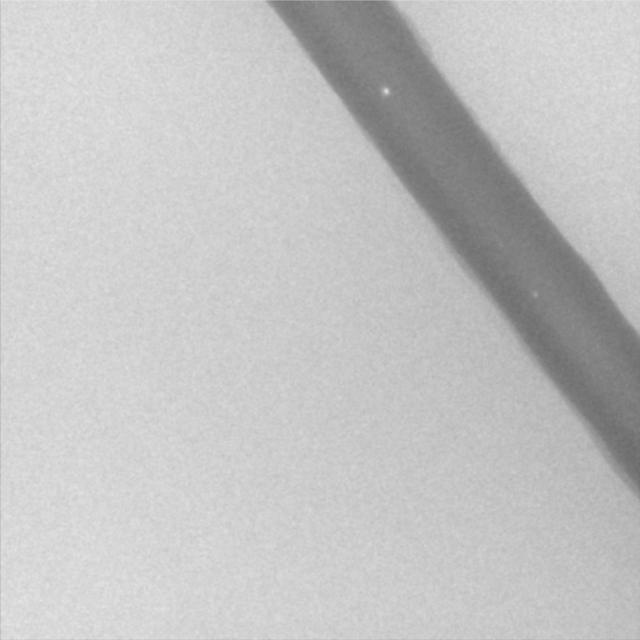air hole: (380, 84, 390, 96)
